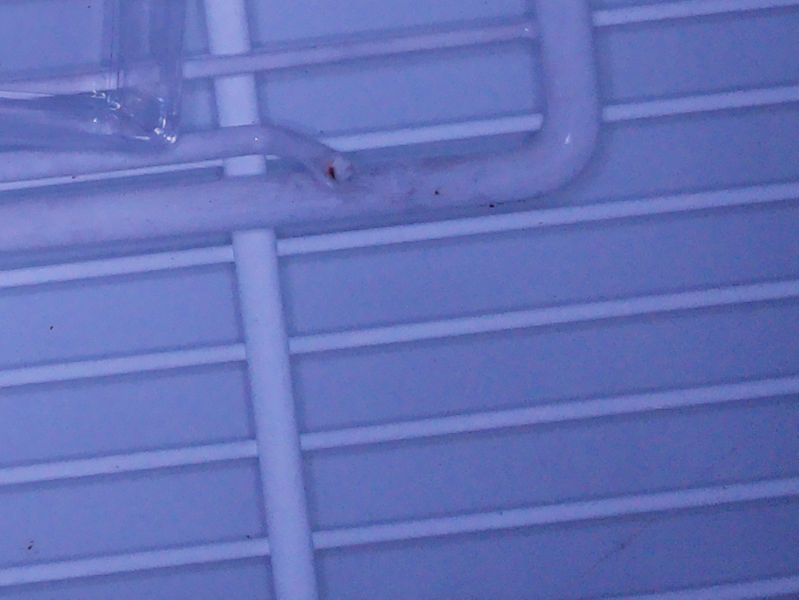plate: (1, 1, 192, 158)
